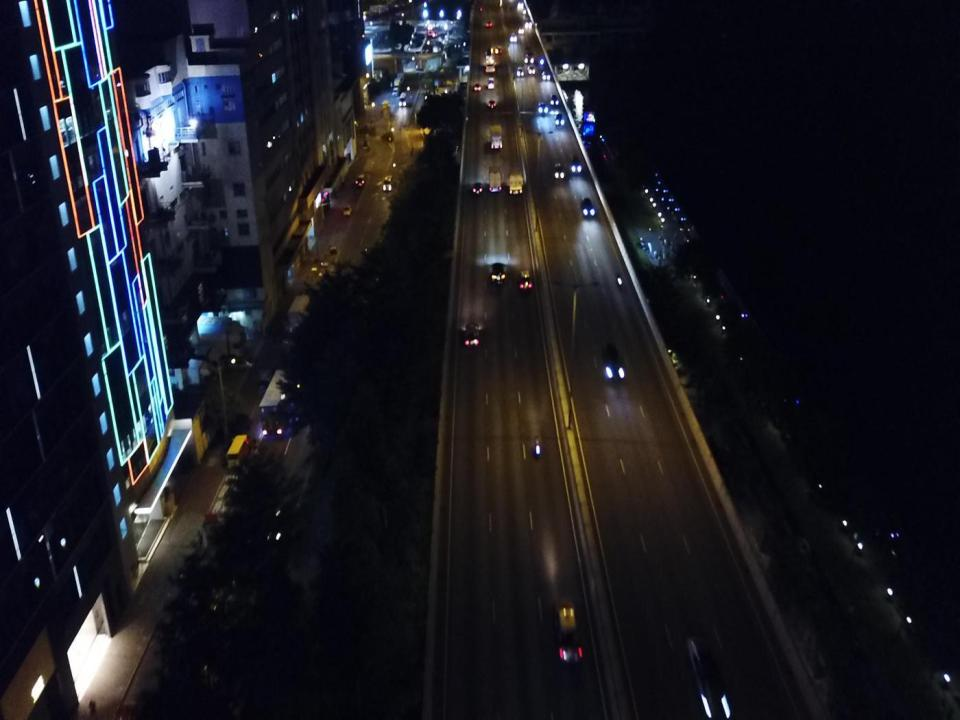bus: (486, 48, 495, 73)
car: (684, 631, 732, 719), (554, 597, 582, 664), (602, 343, 623, 379), (268, 510, 288, 544), (465, 322, 480, 346), (581, 198, 594, 217), (521, 270, 530, 292), (554, 162, 564, 180), (472, 181, 482, 195), (539, 102, 547, 114), (343, 205, 351, 216), (551, 94, 558, 105), (488, 100, 496, 109), (556, 113, 562, 125), (527, 64, 534, 74), (392, 88, 399, 97), (516, 68, 524, 75), (542, 72, 549, 80), (474, 84, 481, 91), (486, 20, 492, 28), (496, 45, 501, 54), (518, 26, 524, 33), (518, 1, 523, 9), (511, 32, 516, 40)
truck: (258, 366, 297, 438), (178, 326, 245, 356), (183, 316, 248, 346), (166, 358, 221, 387), (174, 345, 224, 372), (288, 293, 313, 328), (509, 166, 522, 195), (488, 164, 501, 191), (490, 124, 502, 149), (394, 71, 405, 90), (525, 48, 534, 64), (399, 92, 406, 107), (524, 18, 532, 28)
van: (227, 435, 249, 469), (492, 262, 505, 284), (570, 152, 581, 172), (384, 175, 392, 191), (356, 174, 365, 187), (488, 77, 494, 90)
